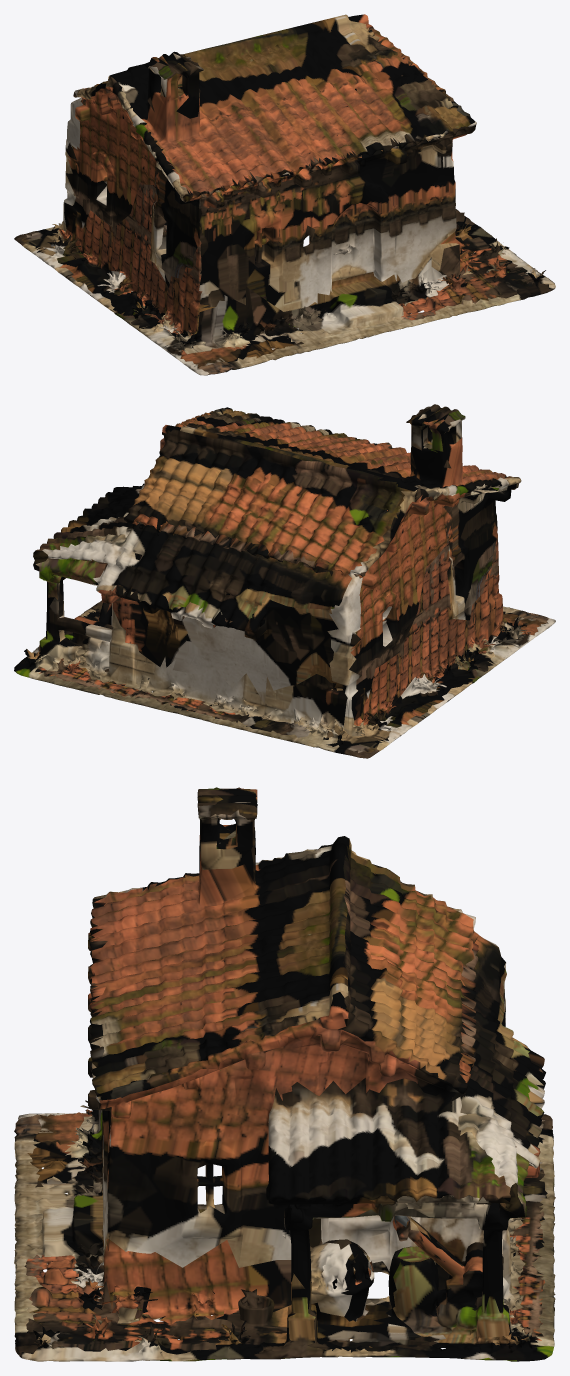
File: SM_ViviendaSencilla.fbx
3 renders of one model, top to bottom at view 1: azimuth 30°, elevation 25°; view 2: azimuth 150°, elevation 25°; view 3: azimuth 270°, elevation 25°, orthographic. The views are drawn at different scales.
Parts seen in each view (by area): view 1: SM_ViviendaSencilla; view 2: SM_ViviendaSencilla; view 3: SM_ViviendaSencilla.
Part boxes in pixels (x1,y1,x2,y2): SM_ViviendaSencilla: (14, 14, 555, 375); SM_ViviendaSencilla: (14, 404, 555, 758); SM_ViviendaSencilla: (14, 787, 555, 1361).
Size of the model in its own units: 99.98 by 66.45 by 92.11.
1 material, 1 textured.
